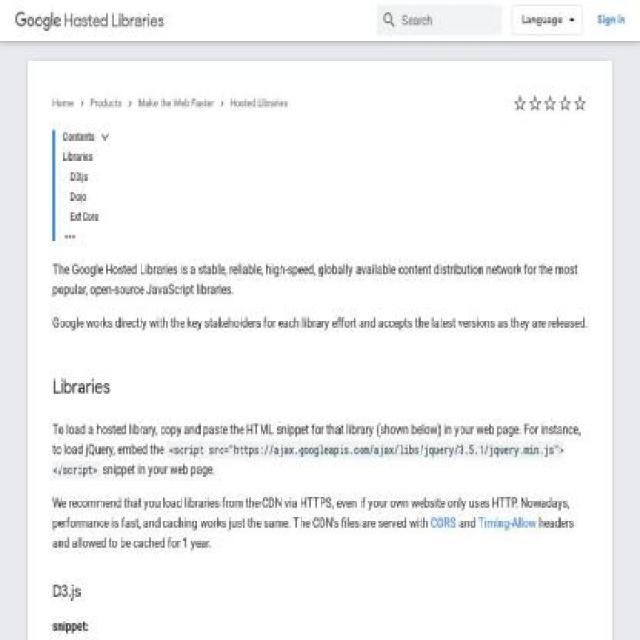button: (62, 147, 587, 167), (69, 167, 588, 187), (69, 187, 588, 207), (69, 207, 588, 227), (15, 7, 164, 35), (512, 4, 582, 36), (138, 93, 214, 113), (592, 4, 631, 36), (230, 93, 288, 113), (90, 93, 122, 113), (62, 130, 95, 147), (52, 93, 74, 113)
field: (377, 4, 501, 36)
